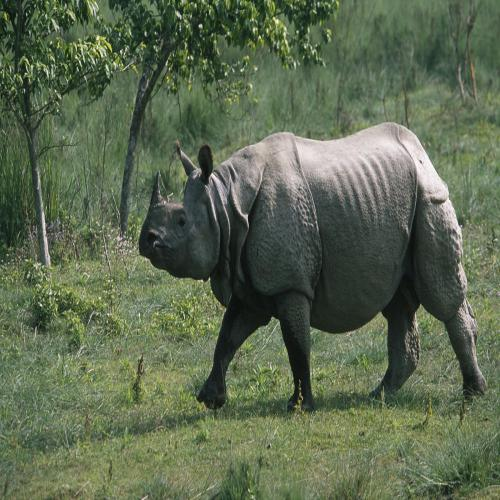rhino-endangered: (140, 120, 488, 412)
